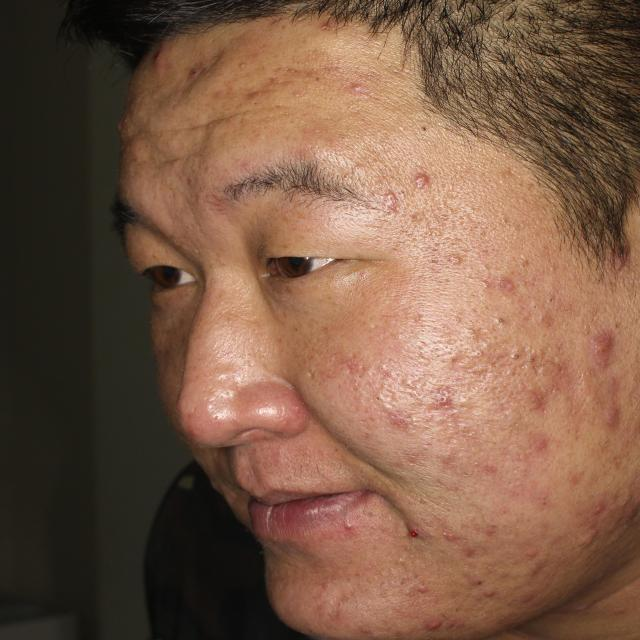Acne: (406, 524, 550, 626), (372, 387, 458, 487), (566, 314, 628, 439), (476, 250, 554, 338), (194, 66, 302, 117), (573, 472, 640, 552), (111, 104, 176, 175), (508, 352, 557, 446), (319, 566, 375, 630), (486, 154, 550, 208), (444, 323, 498, 381), (394, 166, 441, 214), (318, 347, 382, 379), (419, 245, 464, 290), (478, 454, 522, 490), (340, 77, 378, 110), (331, 510, 364, 538)
